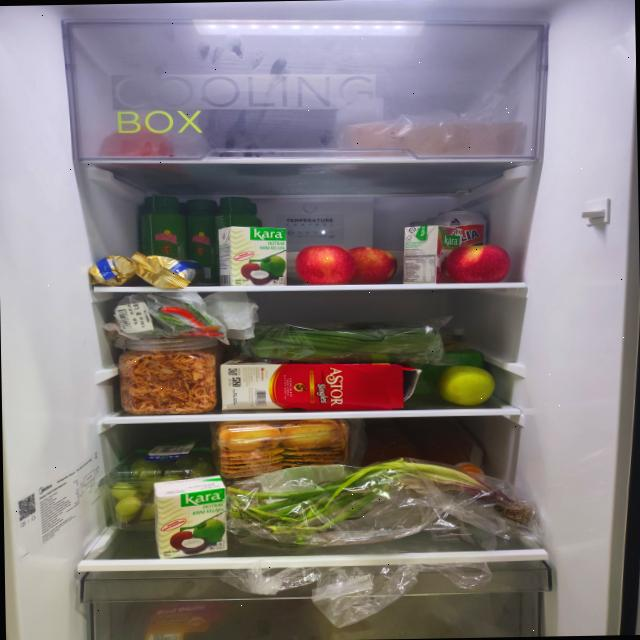apple: (294, 243, 398, 286), (444, 242, 510, 284), (436, 364, 496, 406)
chili: (151, 292, 225, 338)
coconut_milk: (153, 474, 228, 560), (217, 224, 288, 286), (402, 224, 464, 285)
grape: (110, 456, 216, 524)
leafy_greens: (248, 319, 444, 366)
spring_onion: (226, 454, 532, 548)
